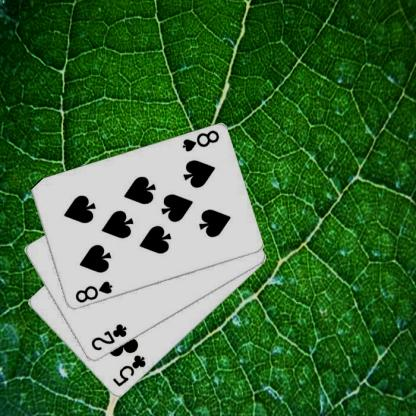2C: (89, 322, 128, 352)
5C: (110, 352, 147, 389)
8S: (73, 279, 114, 304), (180, 128, 221, 153)
